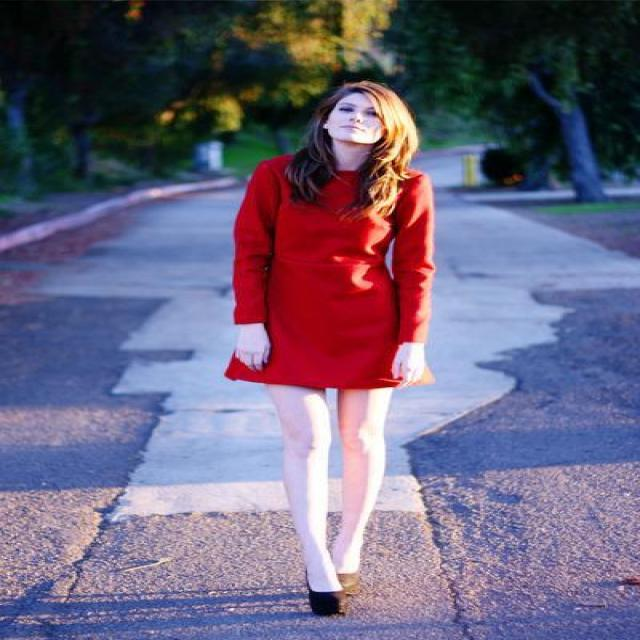dress: (224, 154, 437, 396)
shoe: (307, 588, 344, 616)
